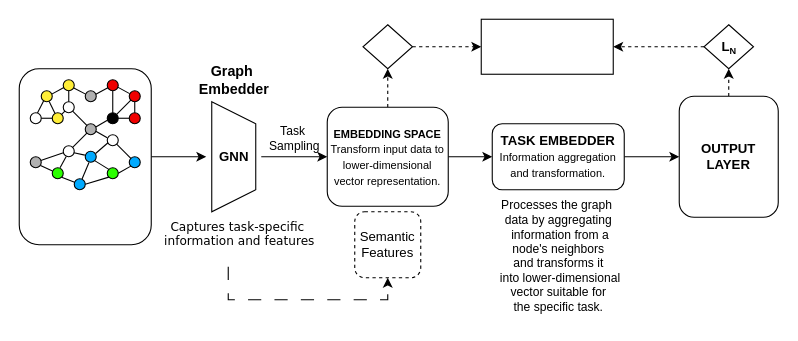
This 798x341 diagram has some shape labels left out. Here are the shapes that lost their labels. From the top down, the centre of each, then its label:
At point 387,46: "L G".
At point 546,46: "Loss Function Combination of L G and L N".
At point 84,156: "INPUT Nodes, Edges, Labels".
